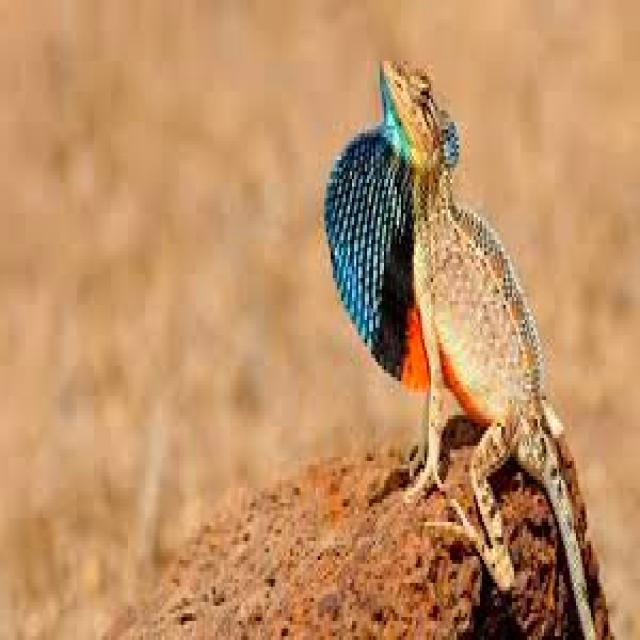lizard: (326, 61, 597, 636)
